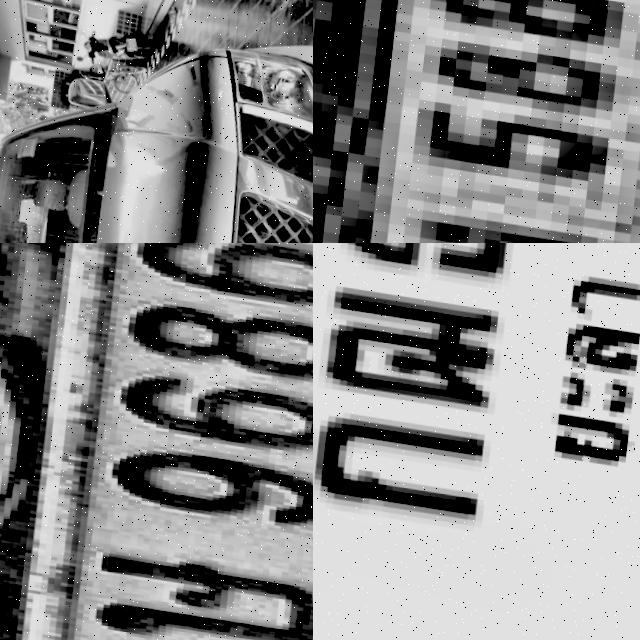license-plate: (313, 243, 640, 640), (2, 243, 313, 640), (328, 0, 640, 243)
